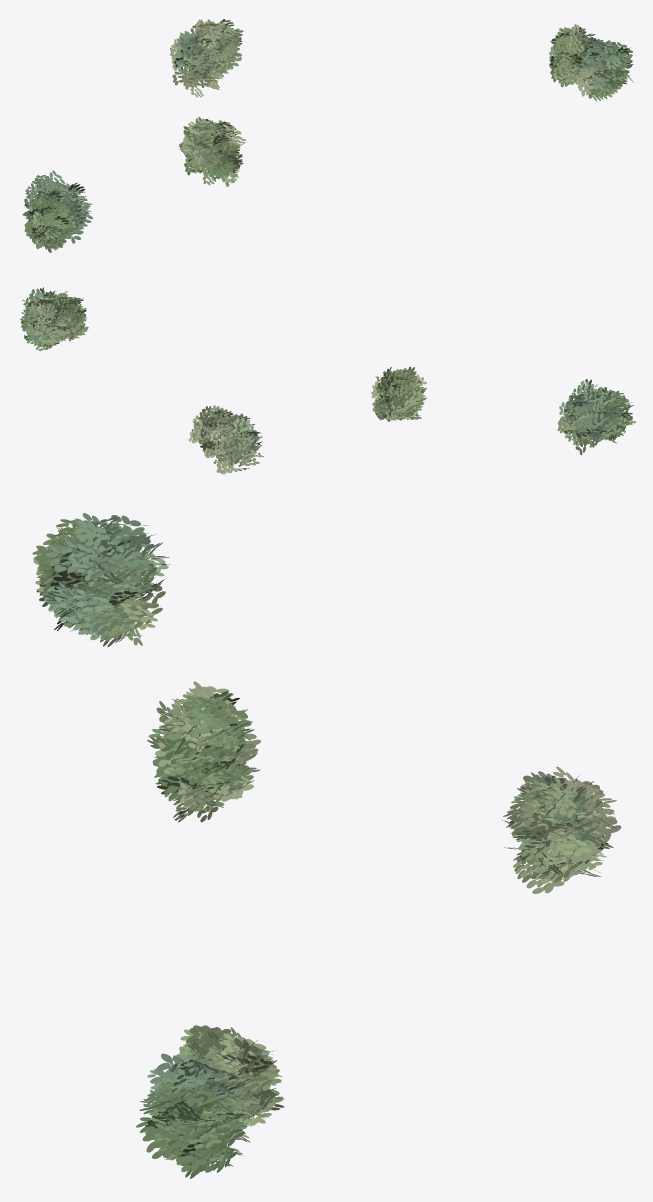
The model's file is campus-tree-4_-4-middle.glb.
3 renders of one model, top to bottom at view 1: azimuth 30°, elevation 25°; view 2: azimuth 150°, elevation 25°; view 3: azimuth 270°, elevation 25°, orthographic. The views are drawn at different scales.
Parts seen in each view (by area): view 1: Campus leaf canopy; view 2: Campus leaf canopy; view 3: Campus leaf canopy.
Part boxes in pixels (x1=…): Campus leaf canopy: x1=22, y1=19, x2=633, y2=252; Campus leaf canopy: x1=20, y1=287, x2=636, y2=474; Campus leaf canopy: x1=32, y1=513, x2=621, y2=1178.
Size of the model in its own units: 51.53 by 6.49 by 22.56.
Materials: 1 (1 with a texture image).
